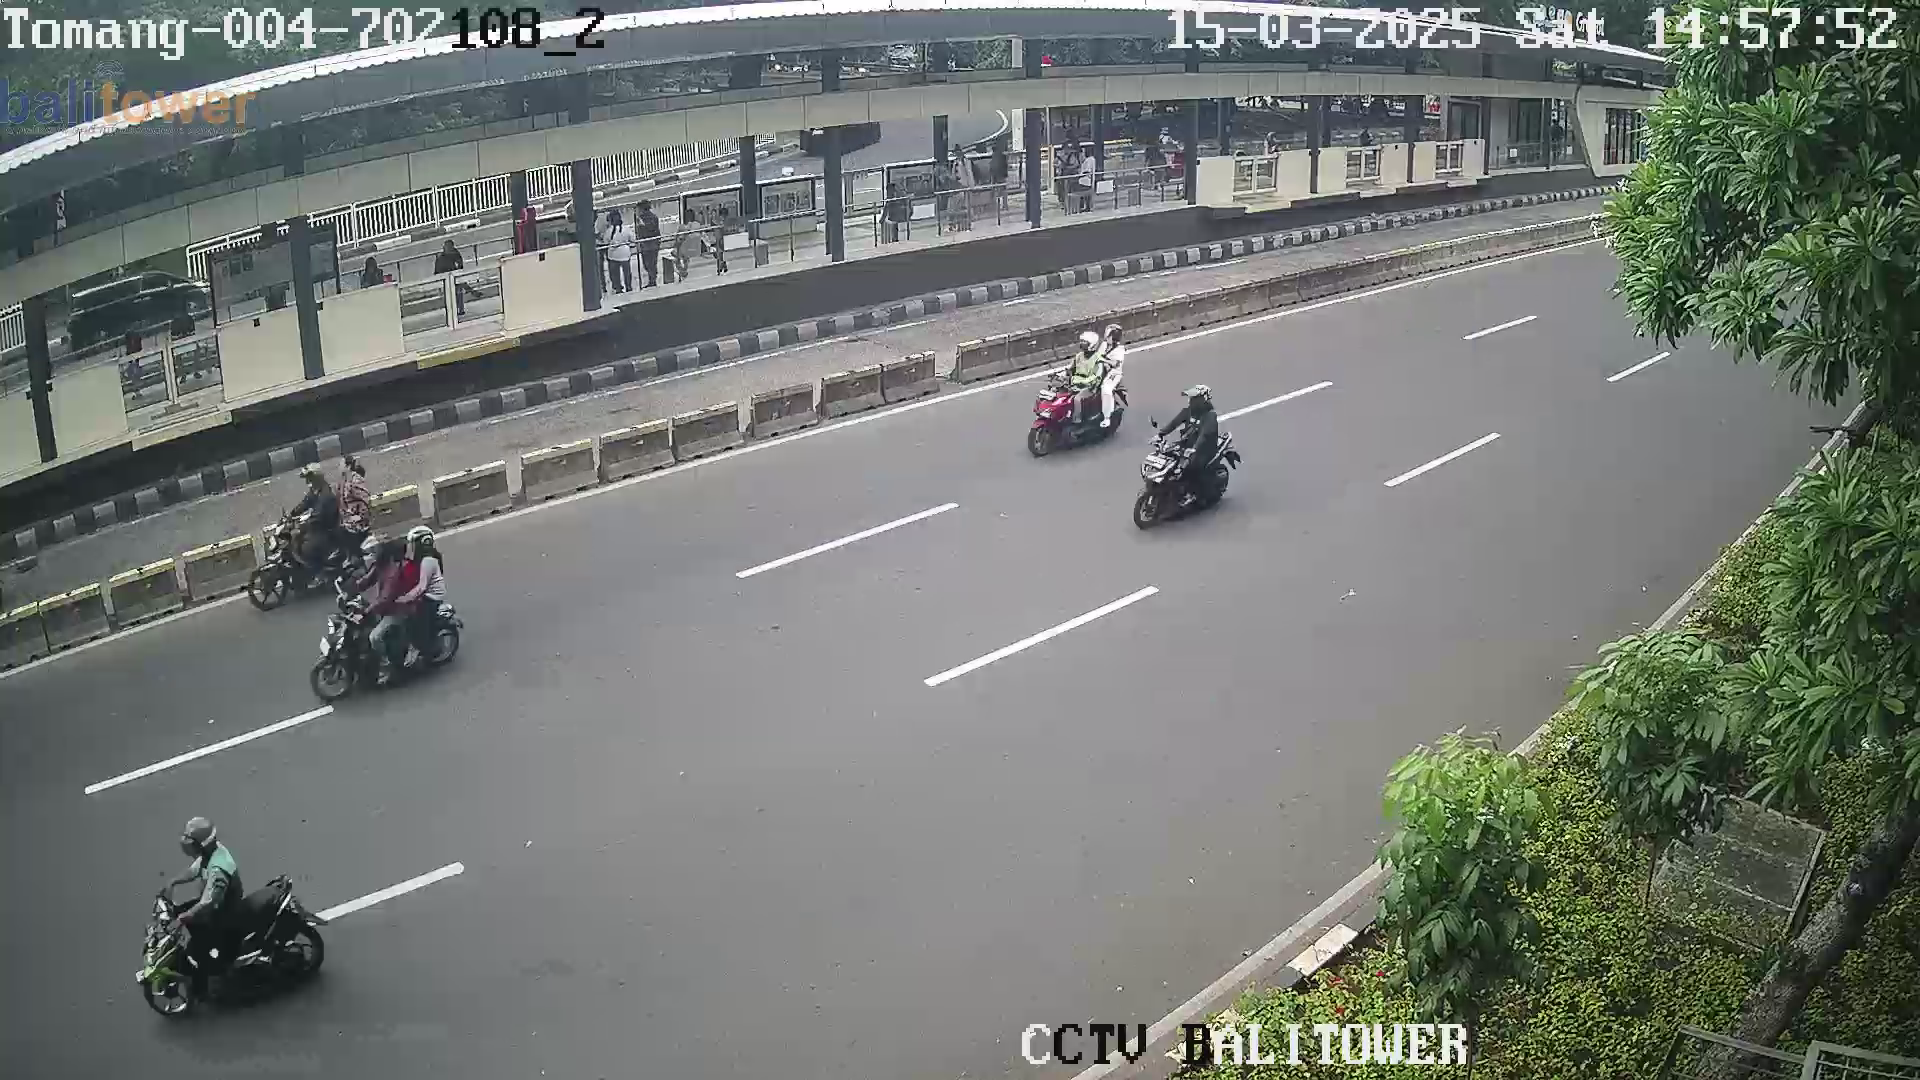half-face helmet: (174, 816, 215, 863), (402, 518, 443, 561), (1178, 384, 1215, 416), (355, 529, 378, 565), (1074, 327, 1098, 359), (298, 459, 319, 492), (1112, 324, 1125, 343)
no helmet: (337, 447, 363, 488)
